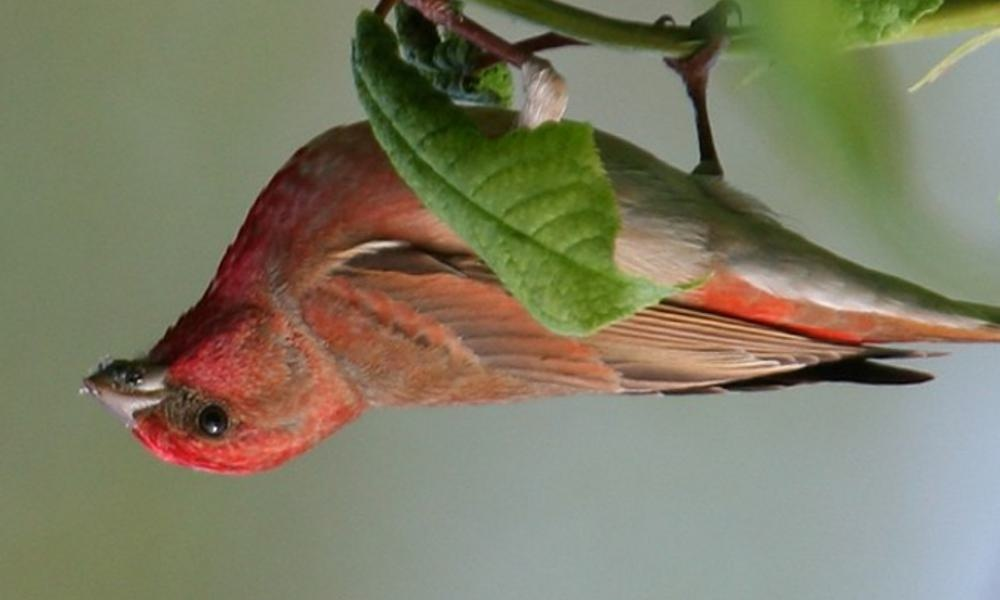rosefinch: (60, 97, 949, 487)
